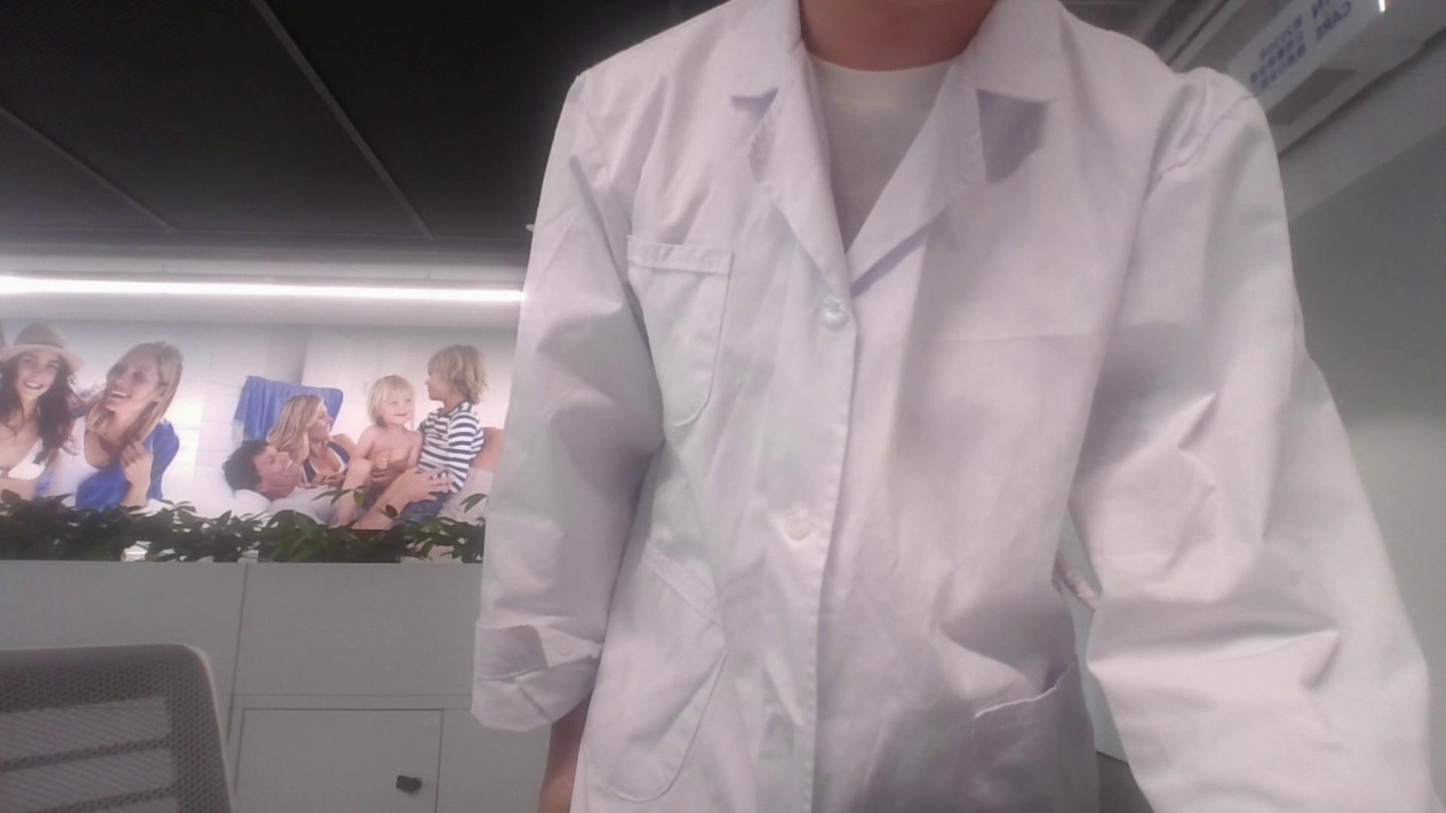Lab_coat: (468, 20, 1388, 813)
